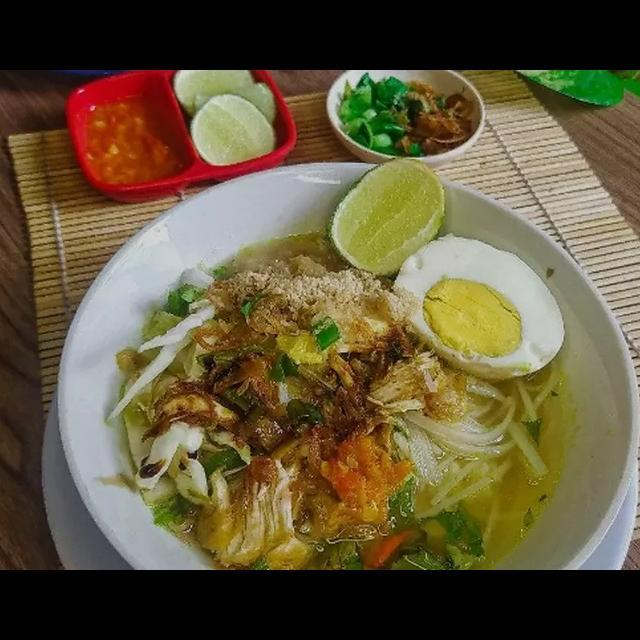Soto: (49, 158, 618, 572)
